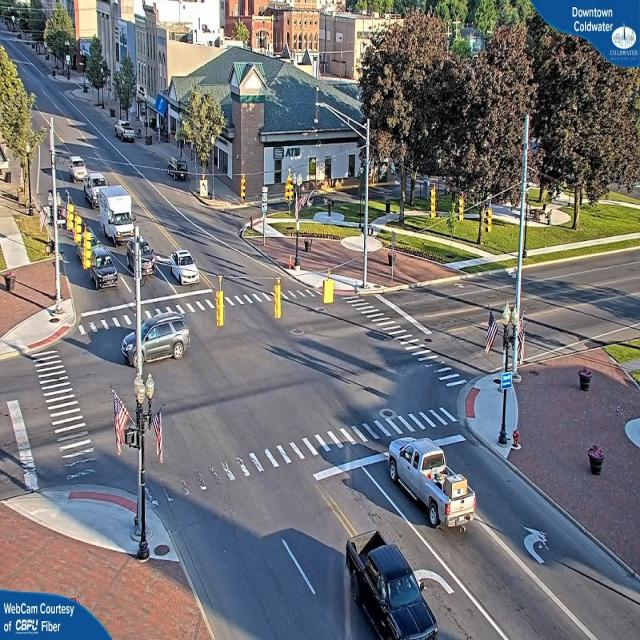car: (344, 542, 443, 640), (384, 440, 476, 536), (124, 300, 192, 373), (124, 235, 160, 281), (164, 250, 200, 288), (88, 252, 116, 286), (586, 442, 606, 476), (116, 123, 136, 143)
truck: (94, 182, 138, 245)
